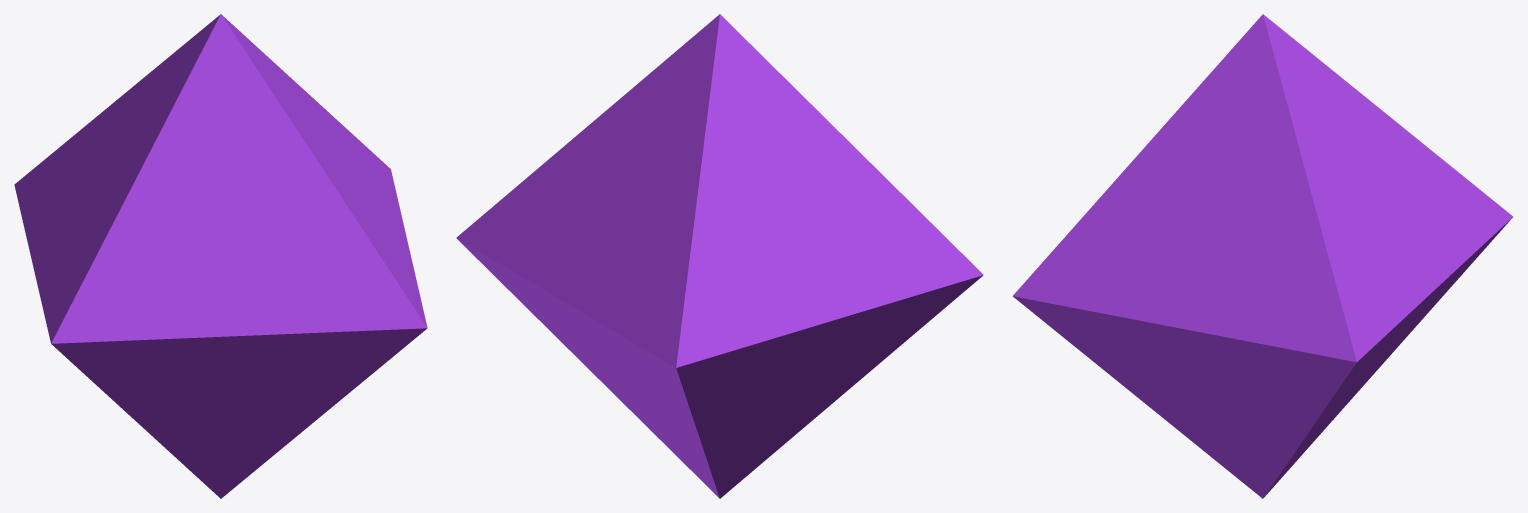
The model's file is Crystal_chunks.fbx.
3 views of the same model, side by side, from view 1: azimuth 30°, elevation 25°; view 2: azimuth 150°, elevation 25°; view 3: azimuth 270°, elevation 25° (orthographic).
Visible parts, largest first — view 1: Crystal_1, Crystal_2, Crystal_0, Crystal_14, Crystal_8, Crystal_15, Crystal_11, Crystal_3, Crystal_6, Crystal_21, Crystal_19, Crystal_16 (+4 smaller); view 2: Crystal_11, Crystal_7, Crystal_8, Crystal_0, Crystal_9, Crystal_19, Crystal_5, Crystal_6, Crystal_21, Crystal_16, Crystal_1, Crystal_22 (+1 smaller); view 3: Crystal_6, Crystal_7, Crystal_19, Crystal_3, Crystal_1, Crystal_11, Crystal_27, Crystal_18, Crystal_15, Crystal_25, Crystal_26, Crystal_5 (+2 smaller).
Part boxes in pixels (<box>): Crystal_1: <box>157,14,378,270</box>; Crystal_2: <box>142,335,403,477</box>; Crystal_0: <box>70,97,190,359</box>; Crystal_14: <box>133,264,313,361</box>; Crystal_8: <box>27,178,123,394</box>; Crystal_15: <box>285,210,407,330</box>; Crystal_11: <box>14,89,130,240</box>; Crystal_3: <box>292,235,427,347</box>; Crystal_6: <box>307,104,410,254</box>; Crystal_21: <box>127,394,231,498</box>; Crystal_19: <box>155,18,323,143</box>; Crystal_16: <box>122,68,165,116</box>; Crystal_11: <box>612,169,804,409</box>; Crystal_7: <box>514,85,692,341</box>; Crystal_8: <box>780,201,983,358</box>; Crystal_0: <box>733,101,953,245</box>; Crystal_9: <box>634,348,896,460</box>; Crystal_19: <box>637,19,768,139</box>; Crystal_5: <box>499,256,644,400</box>; Crystal_6: <box>456,144,566,289</box>; Crystal_21: <box>704,376,864,498</box>; Crystal_16: <box>688,102,767,178</box>; Crystal_1: <box>714,14,817,111</box>; Crystal_22: <box>631,393,729,480</box>; Crystal_6: <box>1160,169,1387,389</box>; Crystal_7: <box>1255,111,1468,316</box>; Crystal_19: <box>1186,19,1347,191</box>; Crystal_3: <box>1012,269,1171,351</box>; Crystal_1: <box>1072,14,1268,228</box>; Crystal_11: <box>1372,103,1513,340</box>; Crystal_27: <box>1145,327,1341,439</box>; Crystal_18: <box>1145,157,1234,276</box>; Crystal_15: <box>1037,226,1163,281</box>; Crystal_25: <box>1203,410,1333,496</box>; Crystal_26: <box>1114,338,1226,446</box>; Crystal_5: <box>1251,280,1449,431</box>.
Size of the model in its own units: 959 by 1024 by 959.
